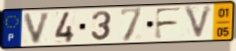3: (89, 10, 113, 42)
4: (53, 10, 77, 44)
7: (120, 7, 145, 43)
F: (153, 6, 184, 41)
V: (182, 3, 215, 41), (22, 11, 53, 45)
